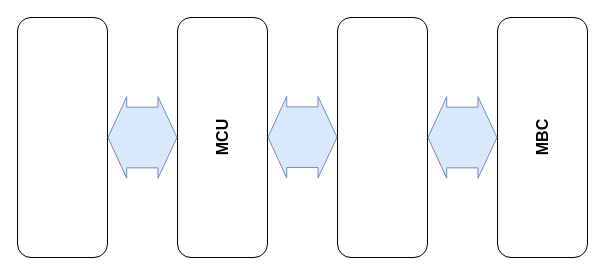
This 605x275 diagram has some shape labels left out. Here are the shapes that lost their labels. From the top down, the centre of each, then its label:
pixel 62 137: SD Card
pixel 382 137: Memory
